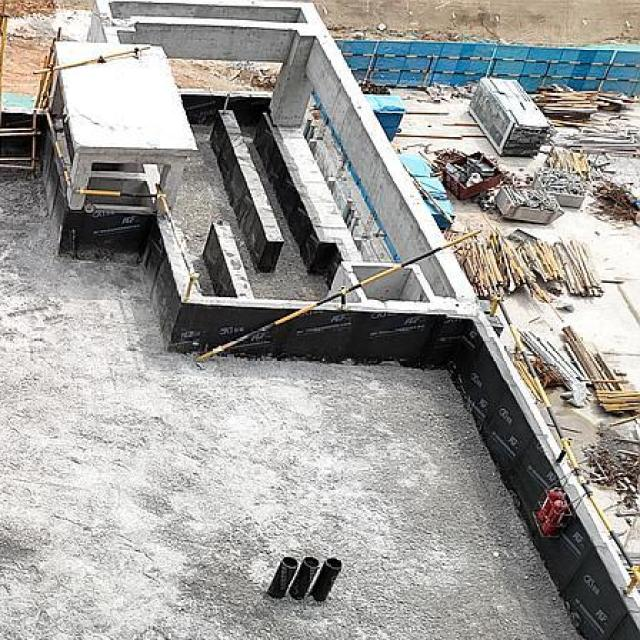edge_guardrail: (477, 293, 640, 598), (192, 226, 484, 365), (46, 108, 200, 302), (341, 51, 640, 90)
